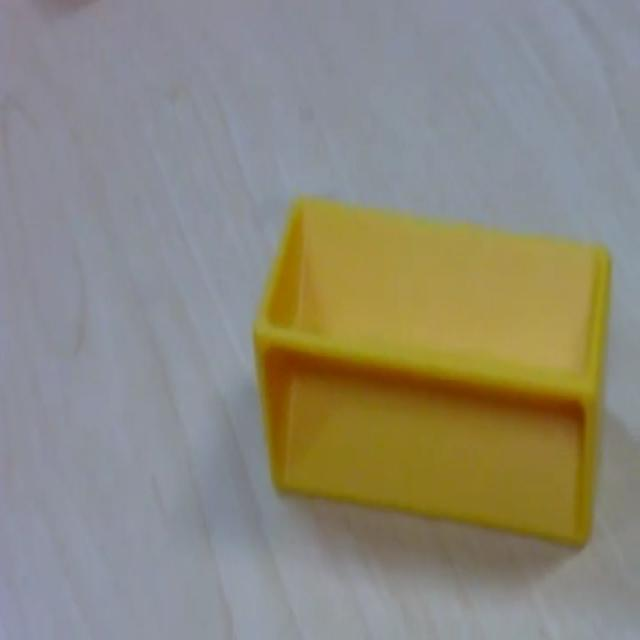yellow_block: (252, 191, 612, 548)
